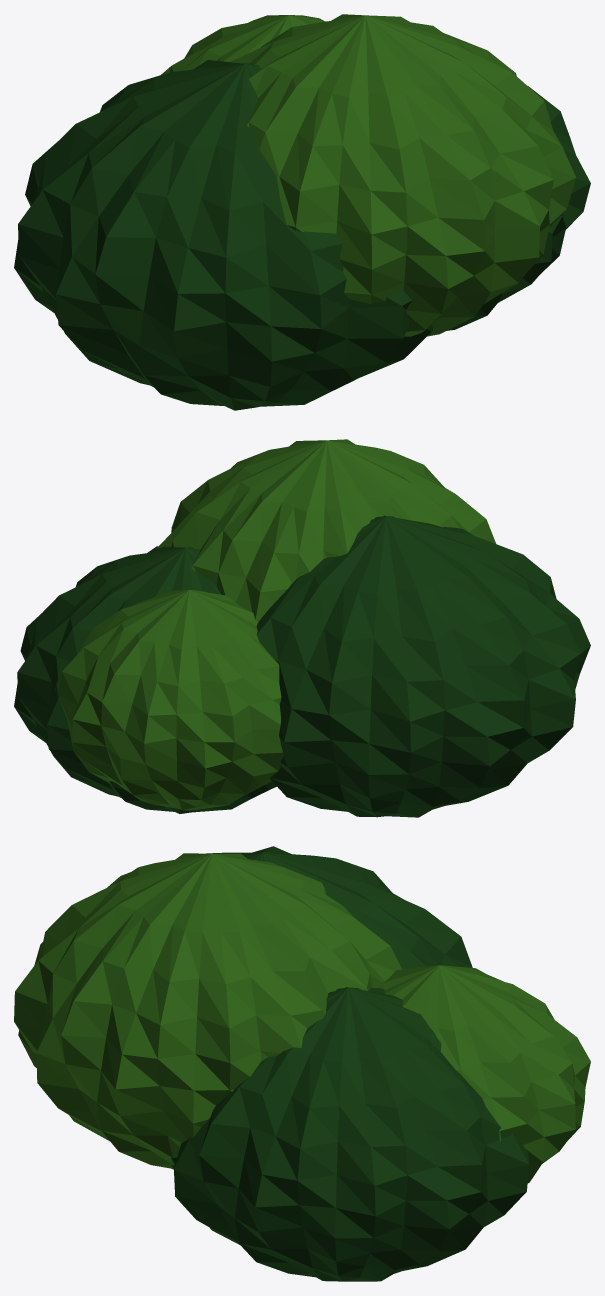
File: bush.obj
3 renders of one model, top to bottom at view 1: azimuth 30°, elevation 25°; view 2: azimuth 150°, elevation 25°; view 3: azimuth 270°, elevation 25°, orthographic. The views are drawn at different scales.
Visible parts, largest first — view 1: bush; view 2: bush; view 3: bush.
Boxes of the visible parts, bbox=[...] form: bush: bbox=[14, 14, 590, 410]; bush: bbox=[14, 439, 590, 817]; bush: bbox=[14, 846, 590, 1281].
Bounding box in the file's own units: 2.22 × 1.5 × 2.03.
